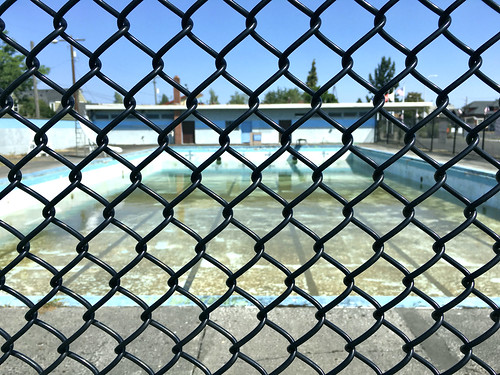building: (70, 93, 429, 156)
sky: (55, 1, 492, 95)
